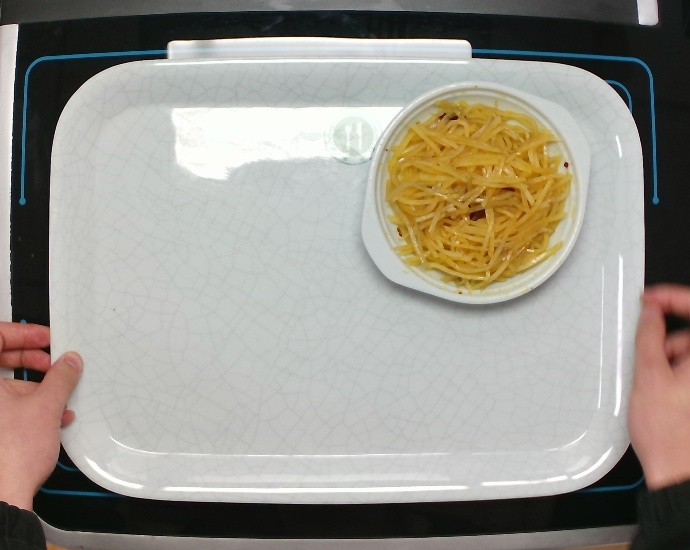JYsf-Shuang_Er_Pan: (360, 77, 591, 307)
